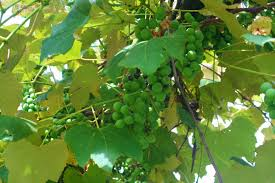grapes: (116, 70, 170, 148), (171, 13, 212, 93)
